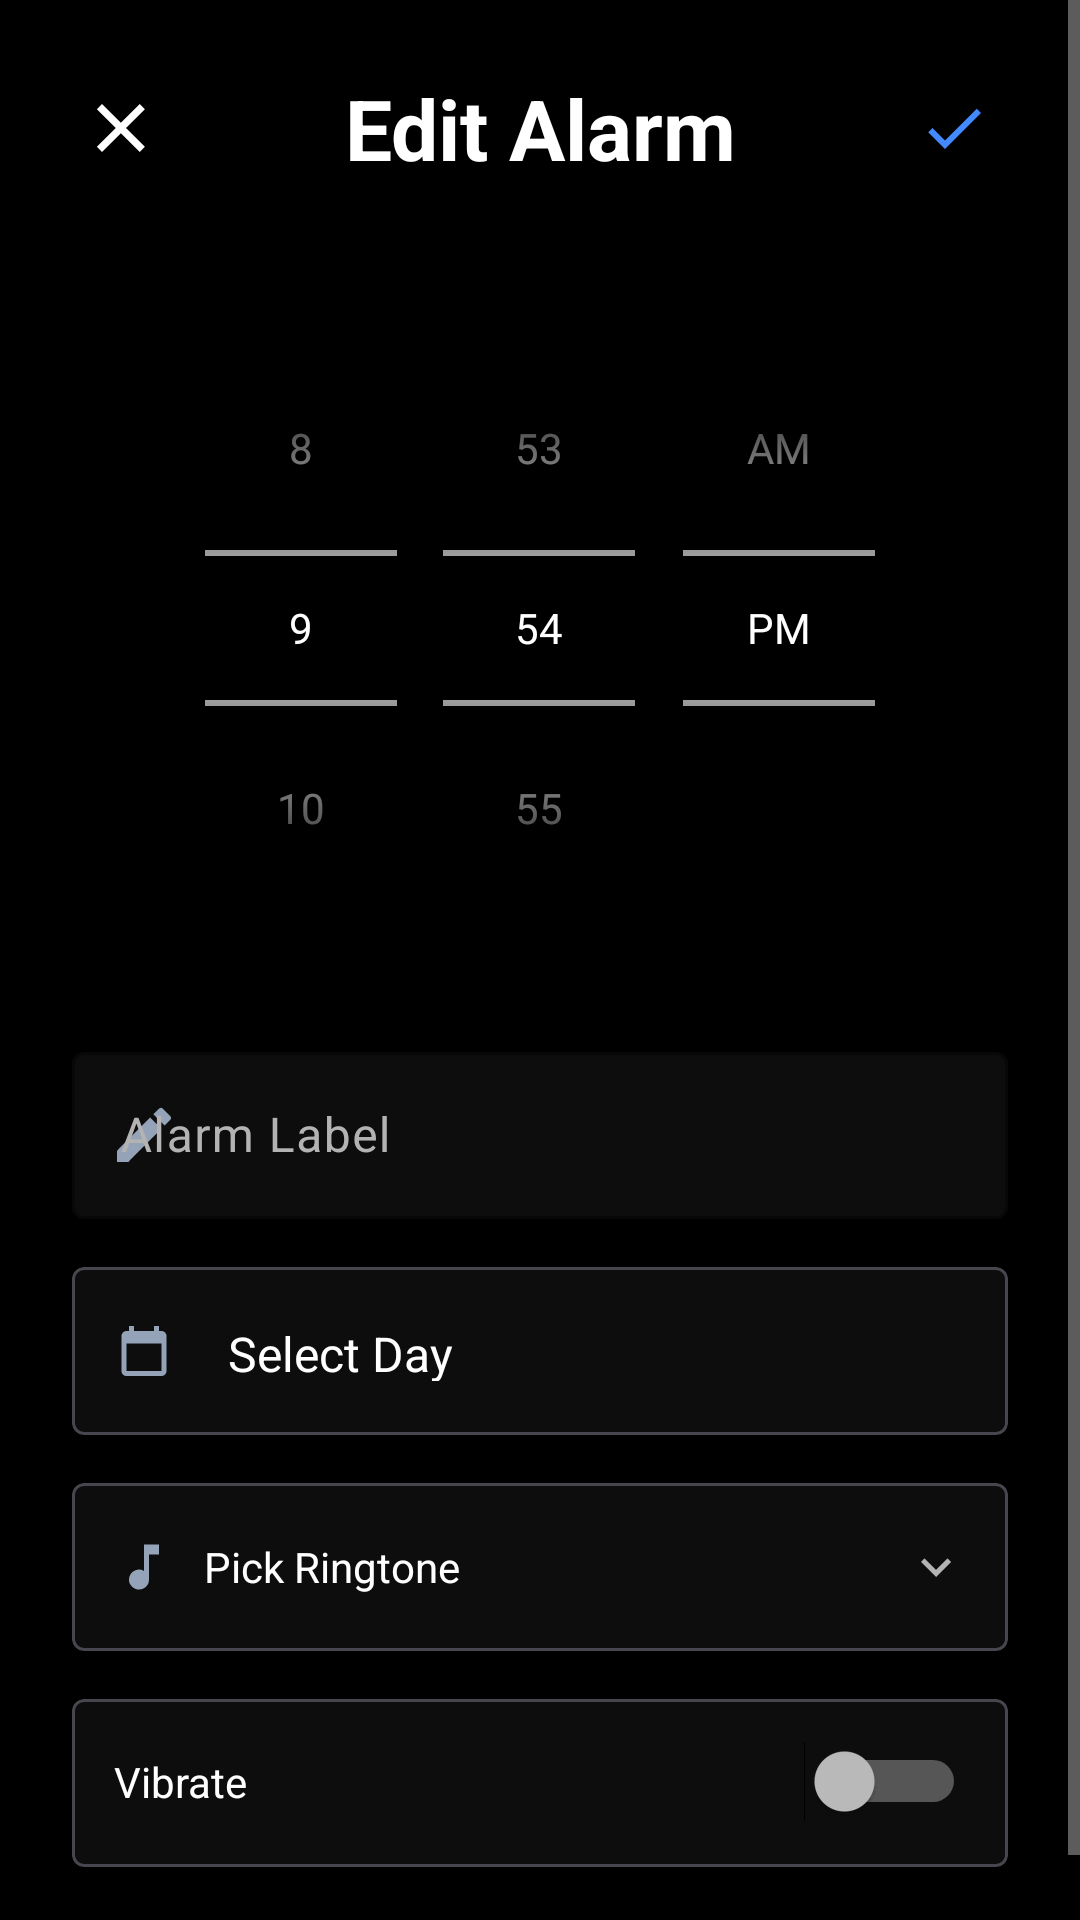

Named icons in this screenshot (1080 × 1920) and their centers, (x=x, y=y):
calendar: (x=144, y=1351)
Close: (x=121, y=128)
music: (x=144, y=1567)
Save: (x=954, y=129)
spinner chevron: (x=936, y=1567)
